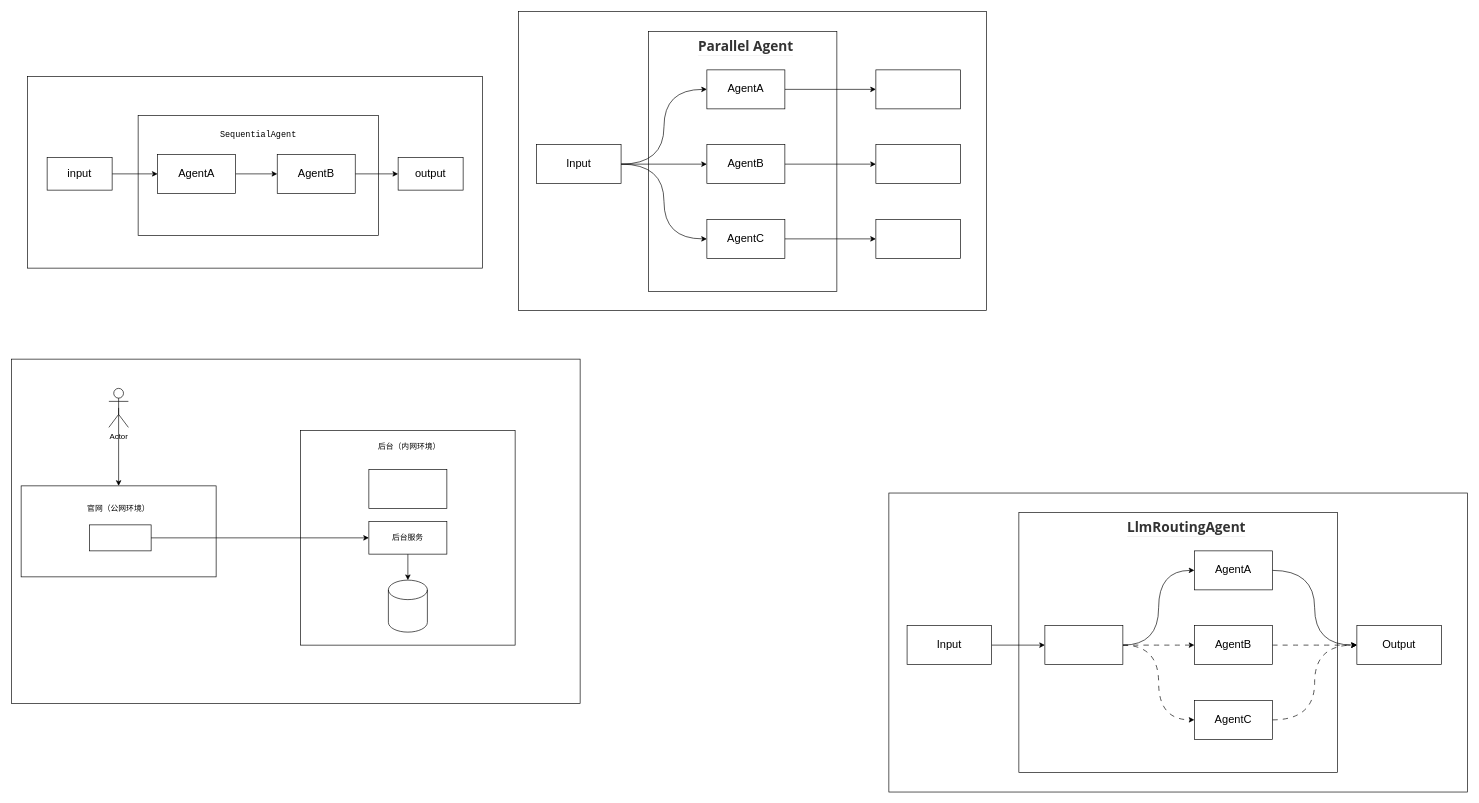
Image size: 1479x803. Some labels were removed from this diagram. Here are the shapes that lost their labels. From the top down, the box of each, then its label:
(875, 69, 960, 109): Output_1
(875, 144, 960, 184): Output_2
(875, 219, 960, 258): Output_3
(368, 469, 447, 509): 页面
(89, 524, 151, 551): 前端 公网页面
(388, 579, 427, 632): 数据库
(1044, 625, 1123, 665): Routing Agent
